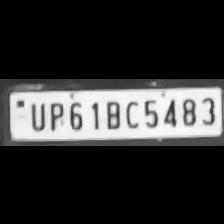1: (86, 98, 102, 130)
3: (198, 93, 218, 125)
4: (160, 96, 178, 127)
5: (140, 95, 160, 127)
6: (64, 98, 86, 130)
8: (178, 94, 198, 126)
B: (102, 97, 122, 129)
C: (122, 96, 140, 128)
P: (44, 98, 64, 130)
U: (26, 98, 46, 130)
